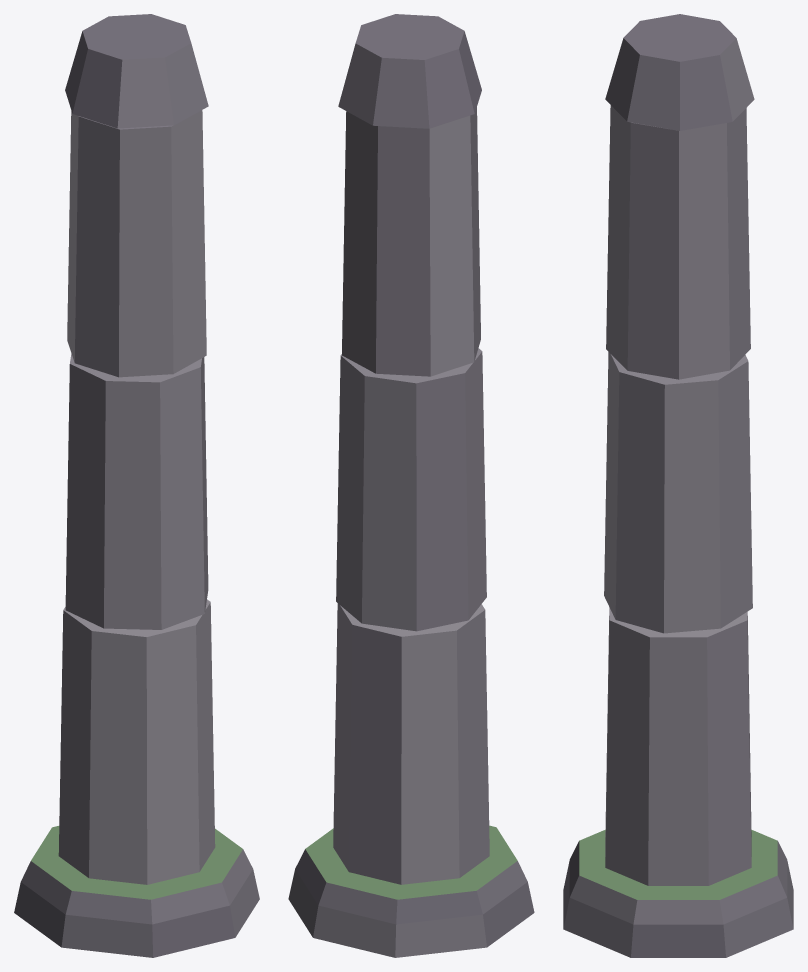
The model's file is Pillar_C.fbx.
The picture shows the model from 3 angles, left to right: view 1: azimuth 30°, elevation 25°; view 2: azimuth 150°, elevation 25°; view 3: azimuth 270°, elevation 25°; orthographic projection.
Parts seen in each view (by area): view 1: Pillar_C; view 2: Pillar_C; view 3: Pillar_C.
Part boxes in pixels (x1,y1,x2,y2): Pillar_C: [14, 14, 259, 957]; Pillar_C: [288, 14, 534, 957]; Pillar_C: [563, 14, 793, 957].
Bounding box in the file's own units: 2.03 × 8.5 × 2.03.
